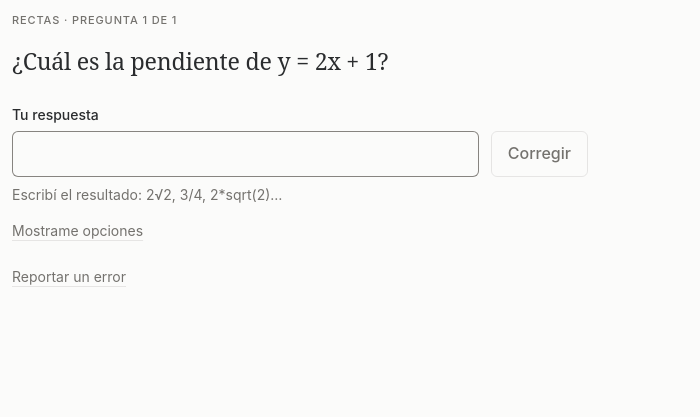
Test: Práctica v2: ronda 1 › una escrita mal respondida lo dice en la primera línea
Expected: the heading "¿Cuál es la pendiente de y = 2x + 1?" is shown, x1=12 y1=45 x2=388 y2=77
Type "5" into the field labelled "Tu respuesta".
click(245, 154); type("5")  # box x1=12 y1=132 x2=479 y2=177
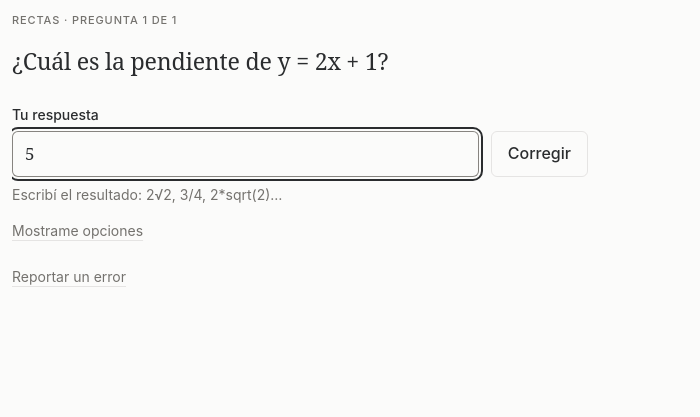
Click the button "Corregir".
click(539, 154)  # box x1=491 y1=132 x2=588 y2=177
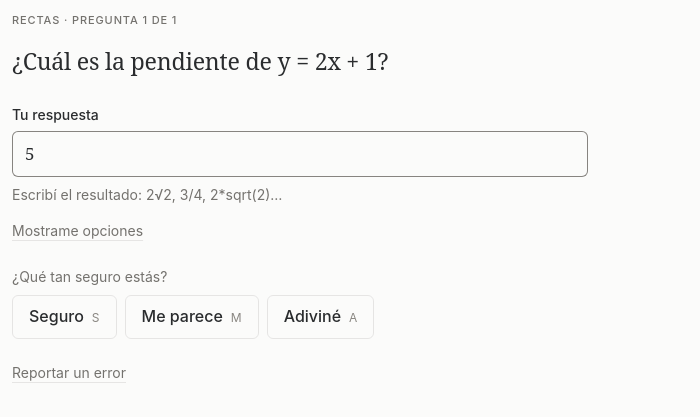
Click the button "Me parece M".
click(192, 317)  # box x1=124 y1=295 x2=259 y2=339
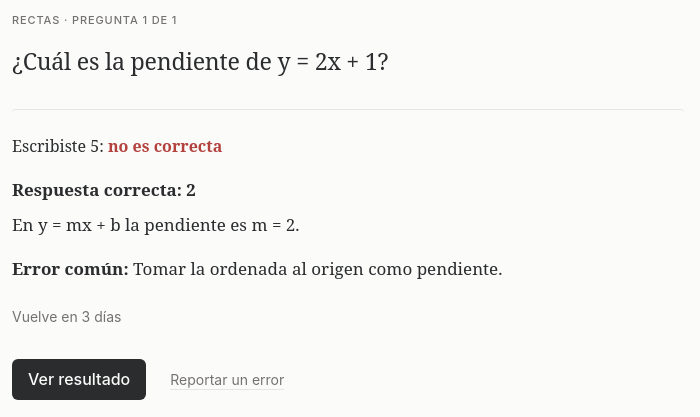
Now the text "Escribiste 5: no es correcta" is shown, box x1=12 y1=136 x2=222 y2=158
